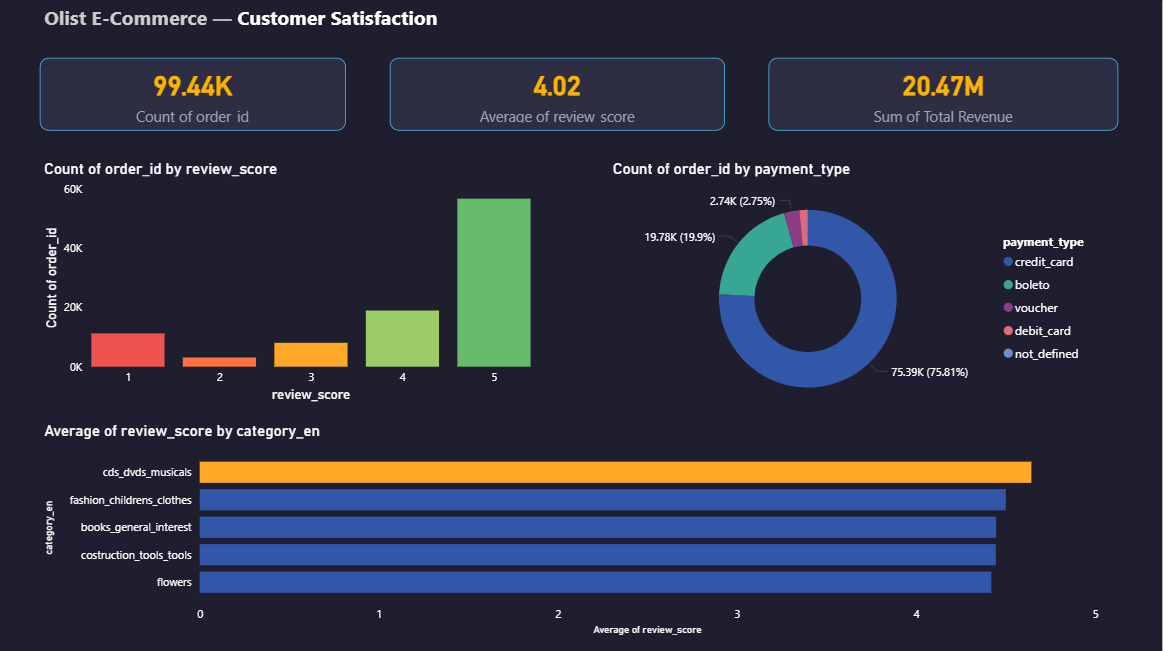

The dashboard page shown, as its layout file describes it:
{"tool":"powerbi","page":{"name":" Customer Satisfaction","canvas":[1280,720],"ordinal":2},"visuals":[{"type":"clusteredColumnChart","fields":{"Category":["olist_master.review_score"],"Y":["Count(olist_master.order_id)"]},"box":[48,176,544,272],"z":0},{"type":"clusteredBarChart","fields":{"Category":["olist_master.category_en"],"Y":["Avg(olist_master.review_score)"]},"box":[48,464,1168,240],"z":1000},{"type":"donutChart","fields":{"Category":["olist_master.payment_type"],"Y":["Count(olist_master.order_id)"]},"box":[672,176,544,288],"z":2000},{"type":"card","fields":{"Values":["Count(olist_master.order_id)"]},"box":[48,64,336,80],"z":3000},{"type":"card","fields":{"Values":["Avg(olist_master.review_score)"]},"box":[432,64,368,80],"z":4000},{"type":"card","fields":{"Values":["Sum(olist_master.Total Revenue)"]},"box":[848,64,384,80],"z":5000},{"type":"textbox","box":[48,0,464,48],"z":6000}]}

Visuals, with their boxes in screenshot pixels (x1, y1, x2, y2), scaled from the page's 1280x720 canvas onto the 1163x651 screenshot:
clusteredColumnChart - olist_master.review_score x Count(olist_master.order_id): box(44, 159, 538, 405)
clusteredBarChart - olist_master.category_en x Avg(olist_master.review_score): box(44, 420, 1105, 637)
donutChart - olist_master.payment_type x Count(olist_master.order_id): box(611, 159, 1105, 420)
card - Count(olist_master.order_id): box(44, 58, 349, 130)
card - Avg(olist_master.review_score): box(393, 58, 727, 130)
card - Sum(olist_master.Total Revenue): box(770, 58, 1119, 130)
textbox: box(44, 0, 465, 43)
